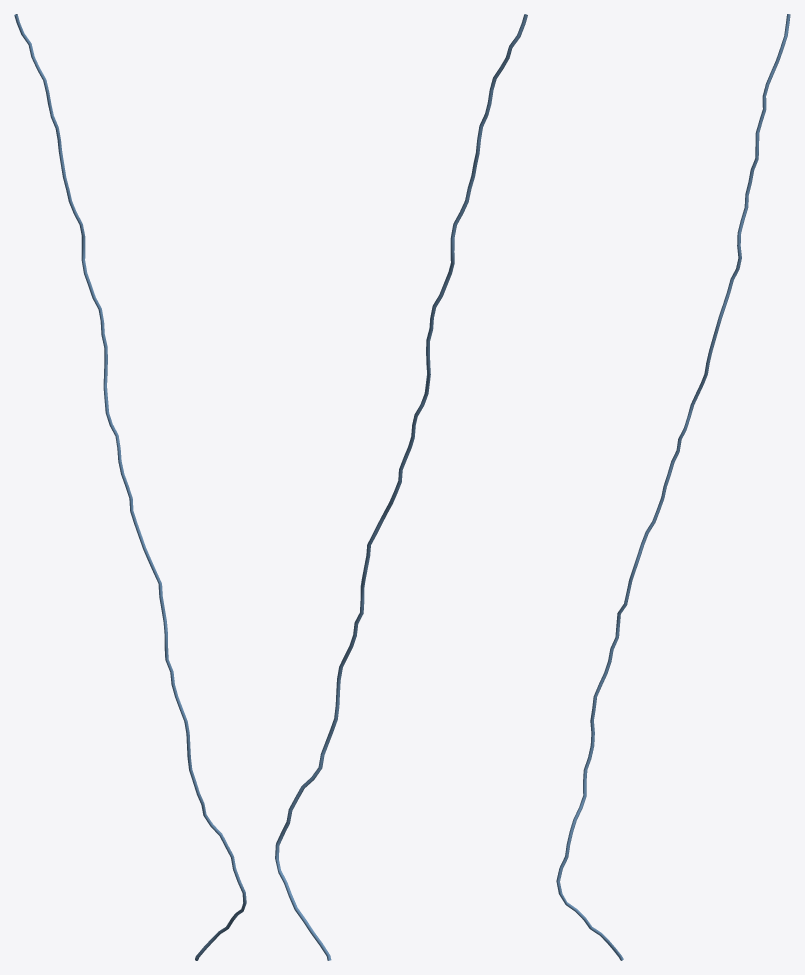
File: sweep296.fbx
3 renders of one model, left to right at view 1: azimuth 30°, elevation 25°; view 2: azimuth 210°, elevation 25°; view 3: azimuth 270°, elevation 25°, orthographic. The views are drawn at different scales.
Parts seen in each view (by area): view 1: sweep296; view 2: sweep296; view 3: sweep296.
Part boxes in pixels (left/top/right/bottom): sweep296: left=14, top=14, right=246, bottom=960; sweep296: left=275, top=14, right=527, bottom=960; sweep296: left=556, top=14, right=790, bottom=960.
Size of the model in its own units: 0.7416 by 5.49 by 1.29.
